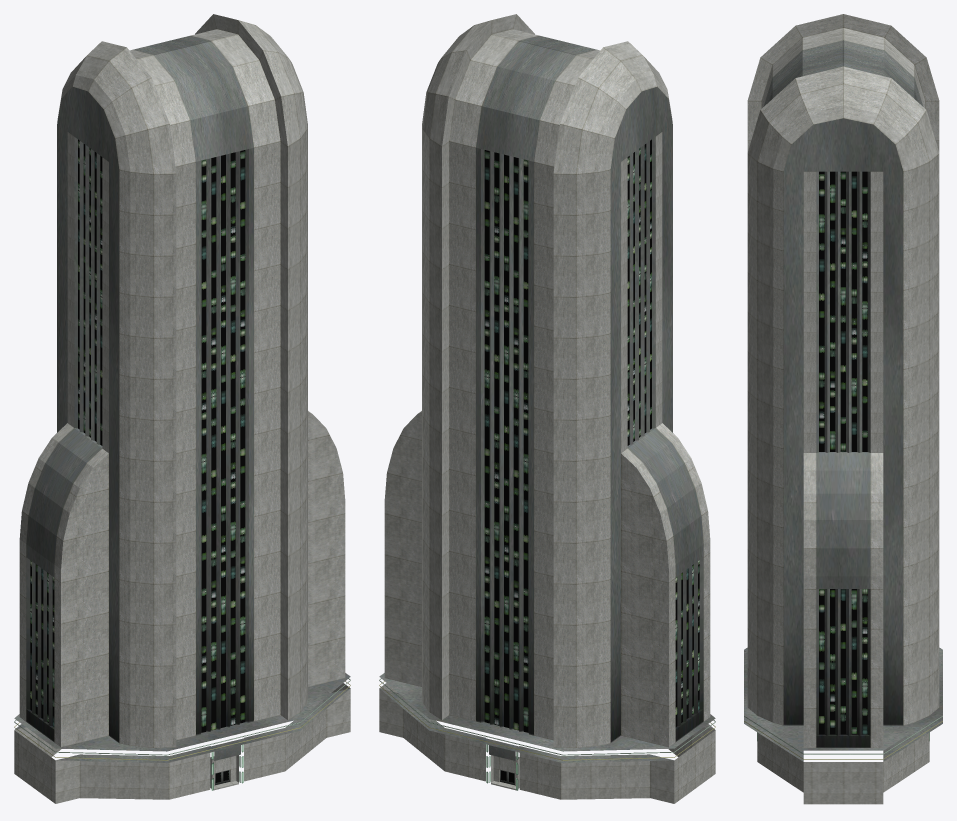
File: thm_corl_skyskraper_s03_l0.fbx
The picture shows the model from 3 angles, left to right: view 1: azimuth 30°, elevation 25°; view 2: azimuth 150°, elevation 25°; view 3: azimuth 270°, elevation 25°; orthographic projection. The views are drawn at different scales.
Parts seen in each view (by area): view 1: mesh_node; view 2: mesh_node; view 3: mesh_node.
Part boxes in pixels (box(x1,y1,x2,y2)): mesh_node: box(14, 14, 350, 803); mesh_node: box(379, 14, 715, 803); mesh_node: box(744, 14, 942, 804).
Size of the model in its own units: 60.95 by 142 by 36.8.
